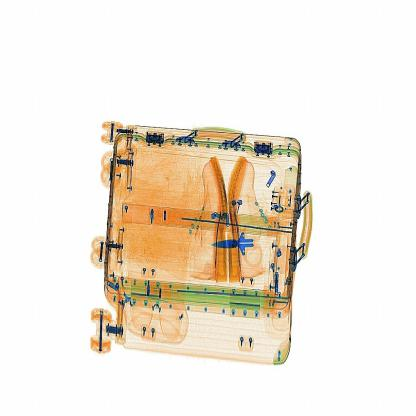gun: (211, 215, 268, 272)
